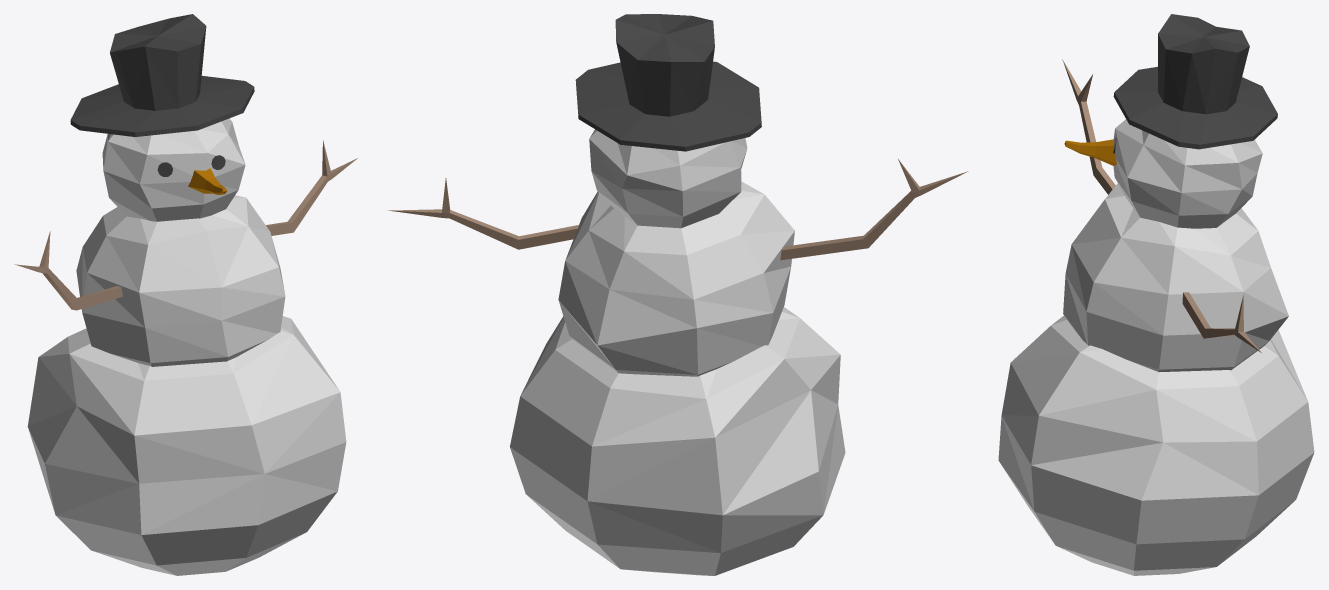
The model's file is Santa_Claus_snowman.fbx.
The picture shows the model from 3 angles, left to right: view 1: azimuth 30°, elevation 25°; view 2: azimuth 150°, elevation 25°; view 3: azimuth 270°, elevation 25°; orthographic projection. The views are drawn at different scales.
Visible parts, largest first — view 1: Santa_Claus_Snowman; view 2: Santa_Claus_Snowman; view 3: Santa_Claus_Snowman.
Part boxes in pixels (x1=…): Santa_Claus_Snowman: x1=14, y1=14, x2=357, y2=575; Santa_Claus_Snowman: x1=387, y1=14, x2=968, y2=575; Santa_Claus_Snowman: x1=998, y1=14, x2=1314, y2=575.
Bounding box in the file's own units: 145 × 161 × 87.51.
